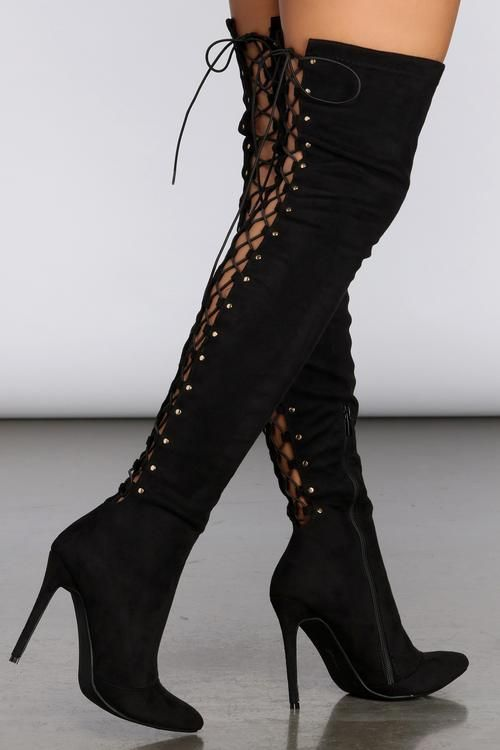gamuza: (48, 16, 470, 732)
